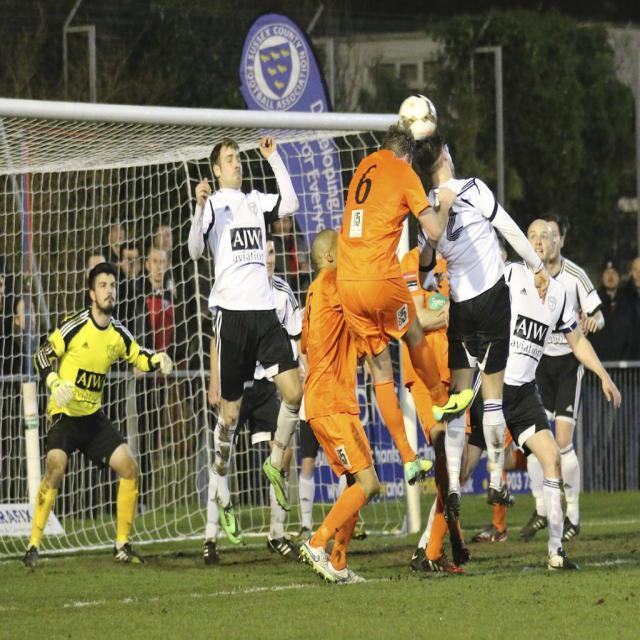football: (386, 82, 455, 148)
